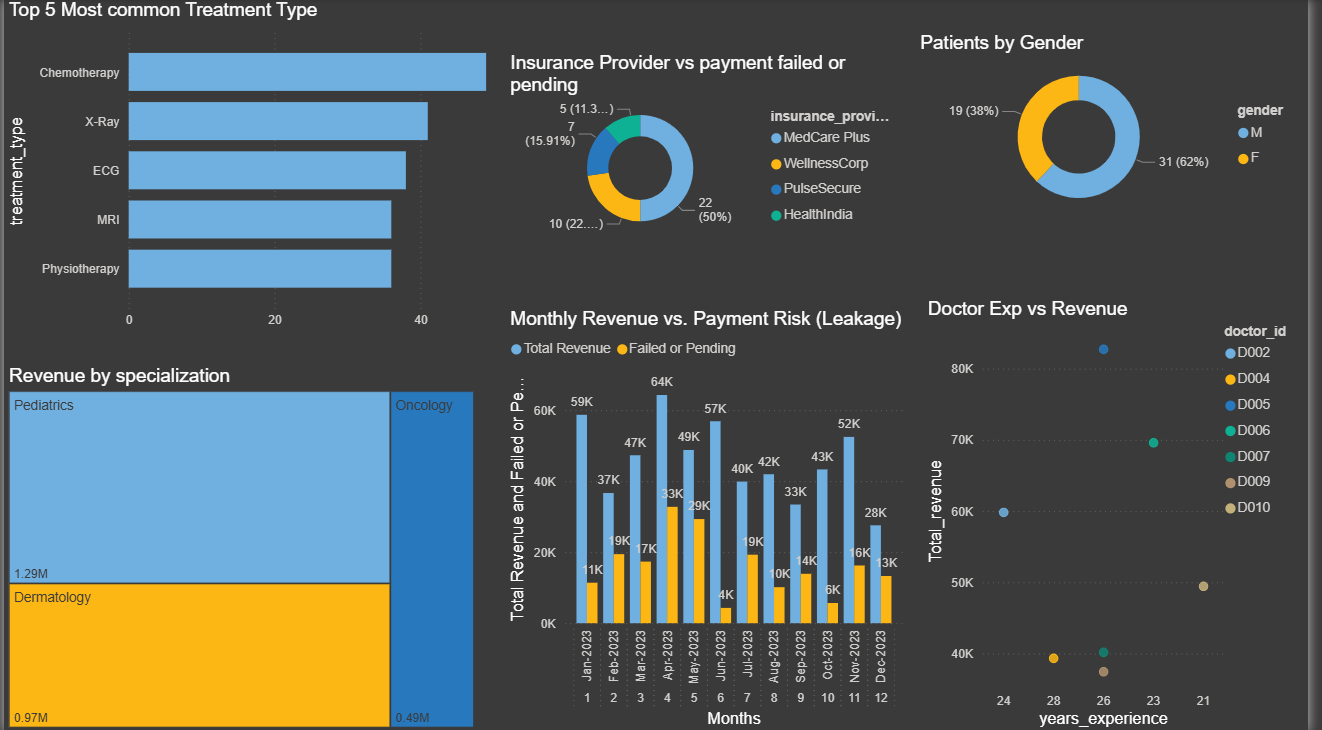

The page's visual inventory and layout, read from the dashboard file:
{"tool":"powerbi","page":{"name":"Page 1","canvas":[1280,720],"ordinal":1},"visuals":[{"type":"treemap","title":"Revenue by specialization","fields":{"Group":["Query8.specialization"],"Values":["Sum(Query8.revenue)"]},"box":[0,359.5,466.5,360.7],"z":0},{"type":"clusteredColumnChart","title":"Monthly Revenue vs. Payment Risk (Leakage)","fields":{"Category":["Monthly appointments count.month","Monthly appointments count.year"],"Y":["Sum(Calculate revenue by MONTH.round)","Sum(Query1.round)"]},"box":[492,303.1,395.1,417.2],"z":1000},{"type":"donutChart","title":"Patients by Gender","fields":{"Category":["Query1.gender"],"Y":["Sum(Query1.count)"]},"box":[894.5,31.9,385.3,186.5],"z":2000},{"type":"scatterChart","title":"Doctor Exp vs Revenue","fields":{"X":["Query11.years_experience"],"Y":["Sum(Query11.total_revenue)"],"Series":["Query11.doctor_id"]},"box":[901.8,293.3,377.9,427],"z":3000},{"type":"donutChart","title":"Insurance Provider vs payment failed or pending","fields":{"Category":["Insurance Performance.insurance_provider"],"Y":["Sum(Insurance Performance.no_of_failed_or_pending_payments)"]},"box":[492,51.5,385.3,187.7],"z":4000},{"type":"clusteredBarChart","title":"Top 5 Most common Treatment Type","fields":{"Category":["Query2.treatment_type"],"Y":["Sum(Query2.count_of_treatment_type)"]},"box":[0,0,492.6,345.8],"z":5000}]}

Visuals, with their boxes in screenshot pixels (x1, y1, x2, y2), scaled from the page's 1280x720 canvas onto the 1322x730 screenshot:
"Revenue by specialization" treemap: rect(0, 364, 482, 729)
"Monthly Revenue vs. Payment Risk (Leakage)" clusteredColumnChart: rect(508, 307, 916, 729)
"Patients by Gender" donutChart: rect(924, 32, 1321, 221)
"Doctor Exp vs Revenue" scatterChart: rect(931, 297, 1321, 729)
"Insurance Provider vs payment failed or pending" donutChart: rect(508, 52, 906, 243)
"Top 5 Most common Treatment Type" clusteredBarChart: rect(0, 0, 509, 351)
